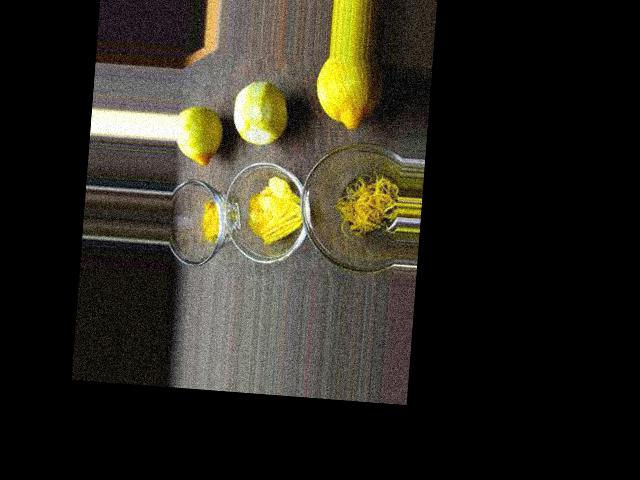lemon: (311, 56, 376, 135)
